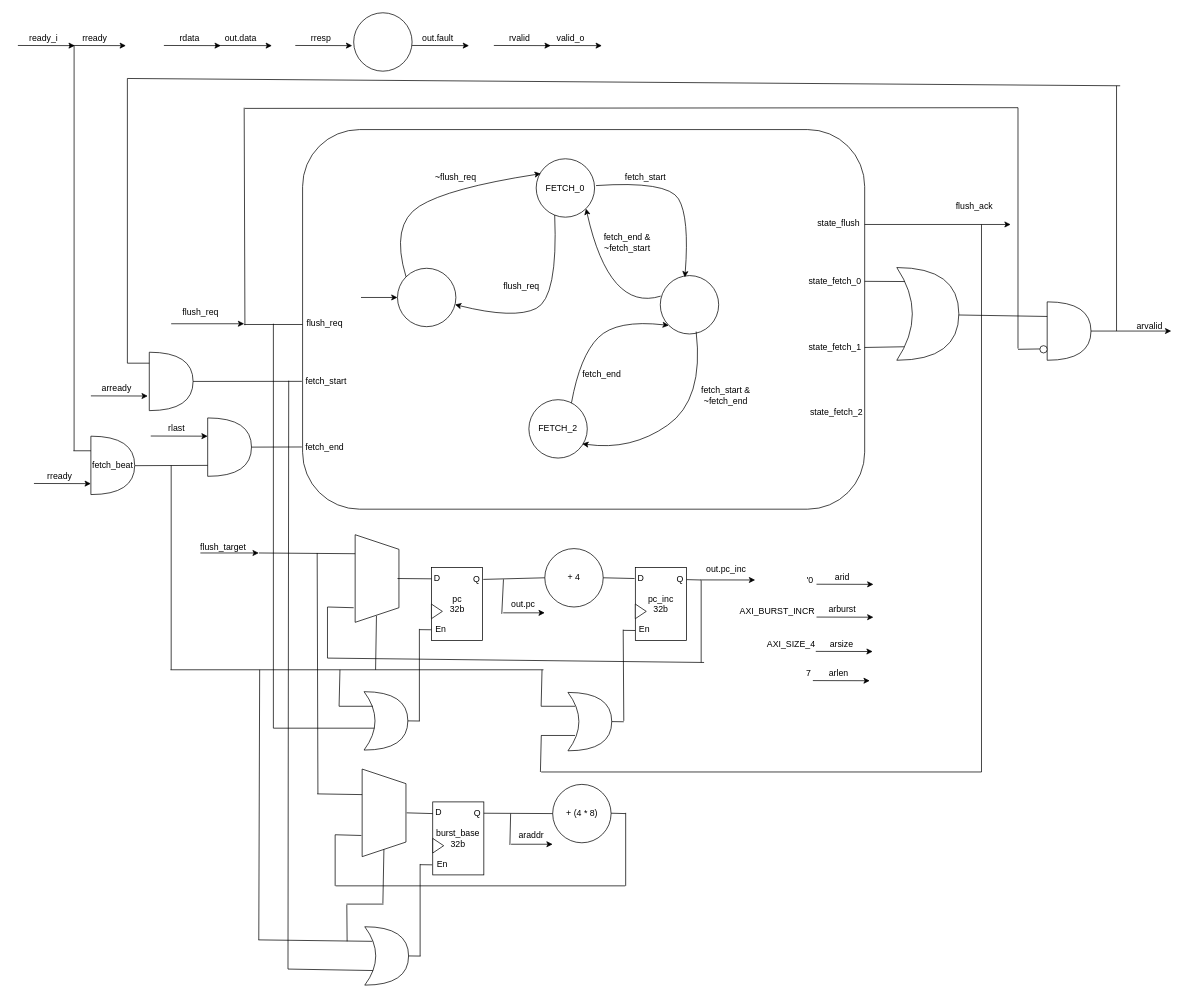
Image size: 1190x998. Some labels were removed from this diagram. The shapes that lost their labels are listed below. From the top down, each one's centre as x and y in pixels, then its label:
At pixel 382 41: "AXI error?".
At pixel 426 297: "FLUSH".
At pixel 689 304: "FETCH_1".
